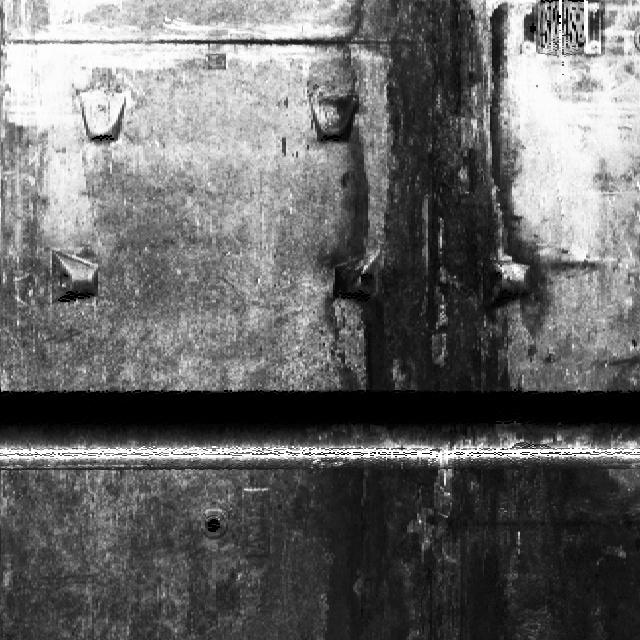leakage: (306, 0, 558, 389), (289, 449, 637, 639)
